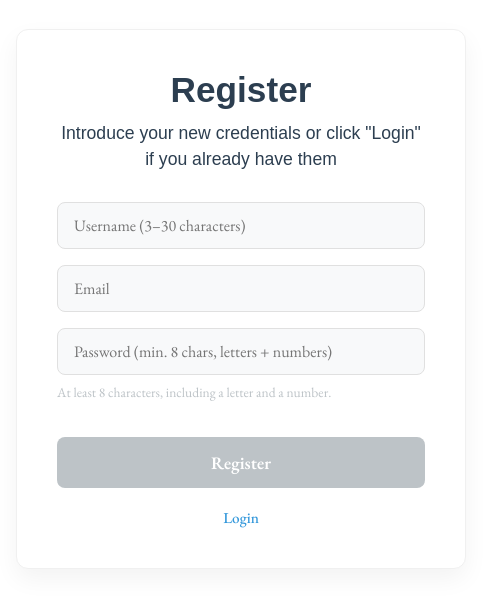
Scenario: Register › shows an availability hint after debounce when the username is taken
In the field with placeholder "Username (3–30 characters)": (241, 226) [57, 202, 425, 249], type "takenname"
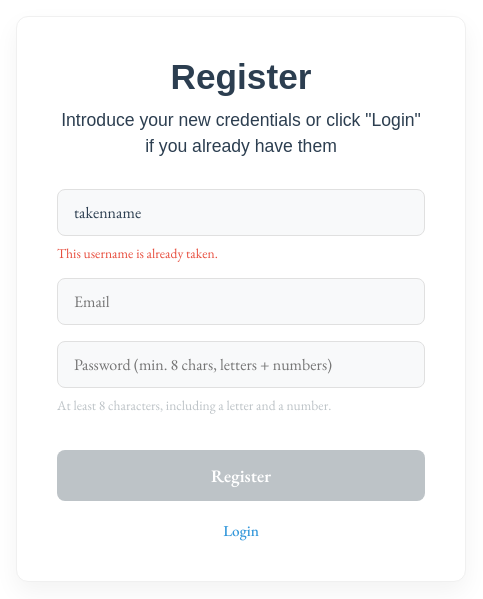
Check: the text "This username is already taken." is shown, box [57, 244, 218, 262]
